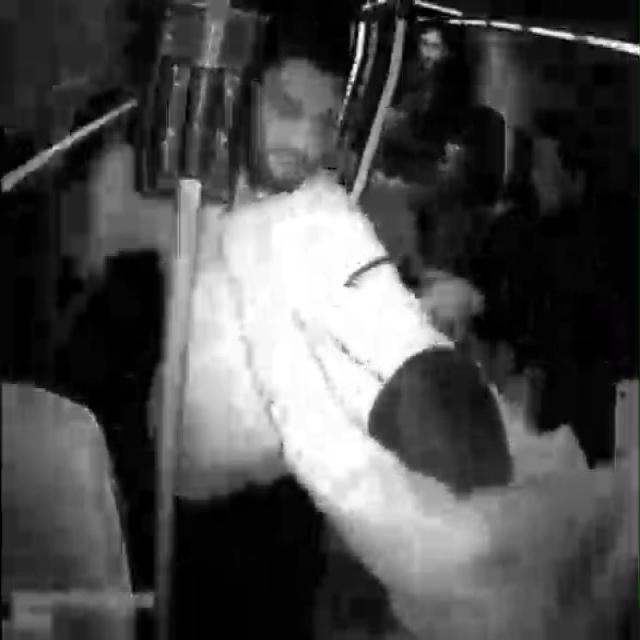fight: (214, 44, 532, 564)
